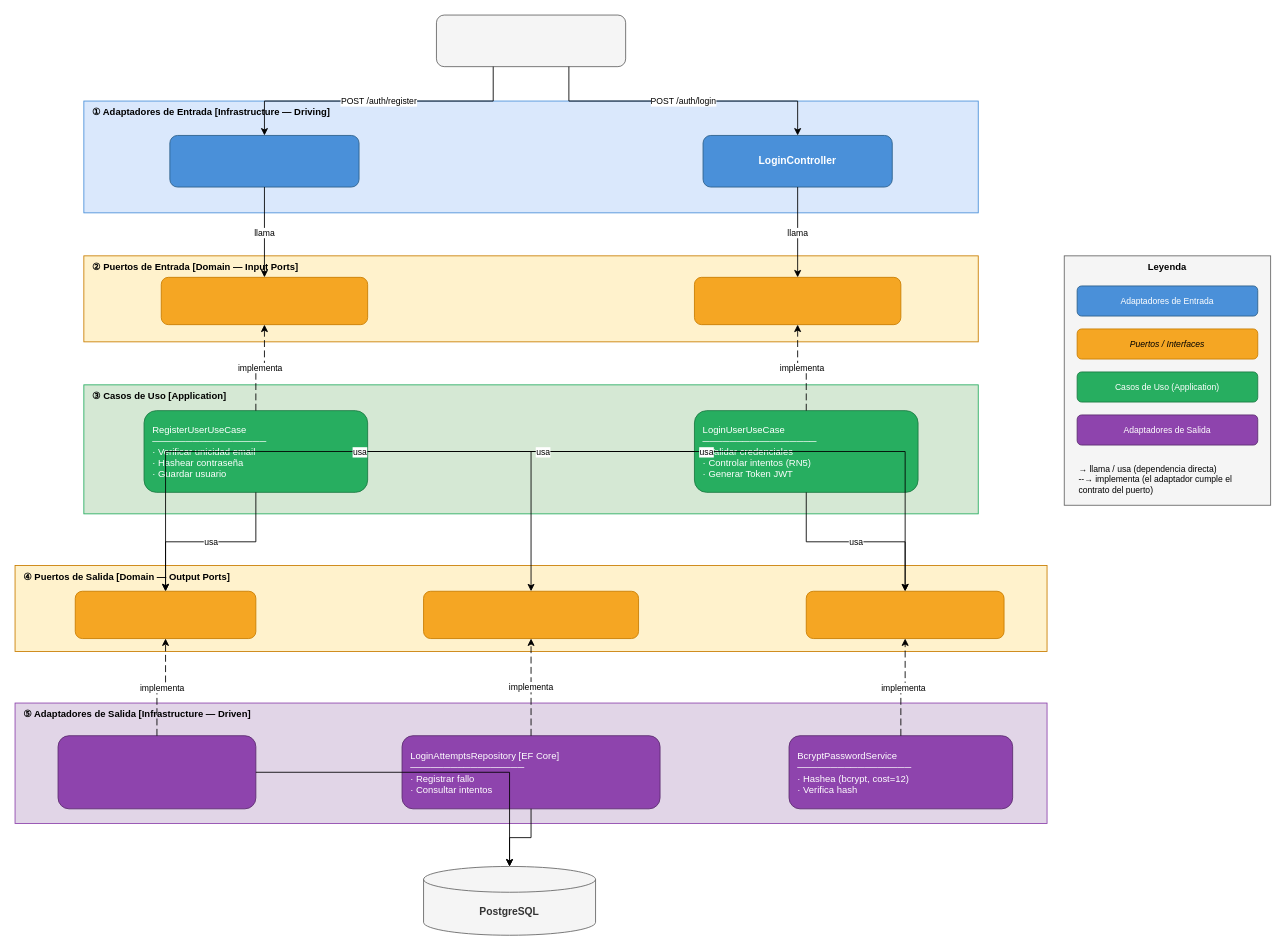
The diagram is 1286 pixels wide and 950 high, and some of its shapes have lost their labels. The shapes that lost their labels are listed below. From the top down, each one's centre as x and y in pixels, then its label:
At pixel 531 40: "Frontend APP".
At pixel 264 161: "RegisterController".
At pixel 264 300: "«interface» IRegisterUserUseCase".
At pixel 797 300: "«interface» ILoginUserUseCase".
At pixel 165 614: "«interface» IUserRepository".
At pixel 531 614: "«interface» ILoginAttemptsRepository".
At pixel 904 614: "«interface» IPasswordHashingService".
At pixel 156 772: "UserRepository [EF Core] ───────────────── · Guardar usuario · Buscar por email".
